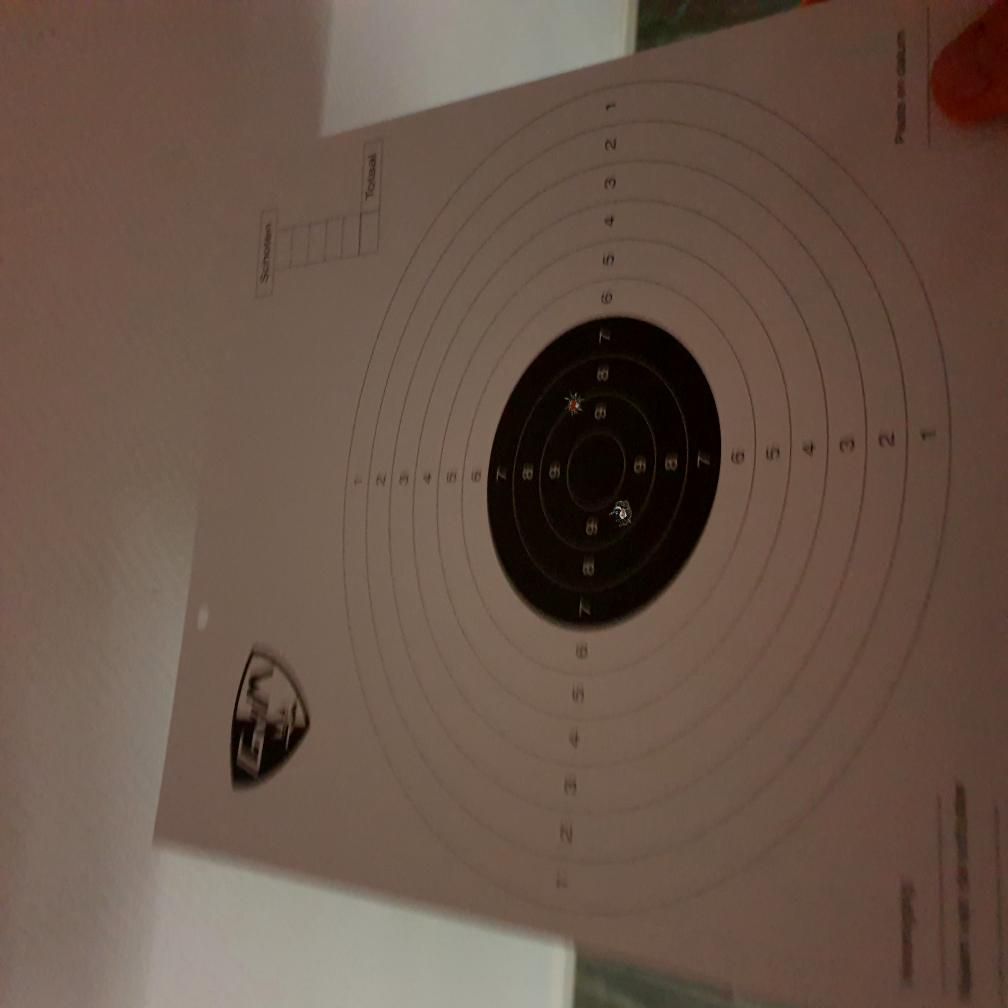9: (609, 500, 633, 527), (564, 389, 583, 416)
Target: (343, 71, 953, 921)
black_contour: (485, 314, 722, 631)
